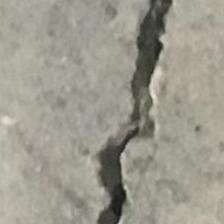Crack: (79, 0, 216, 224)
